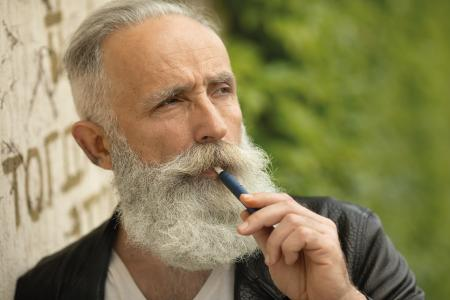iqos: (213, 165, 260, 214)
